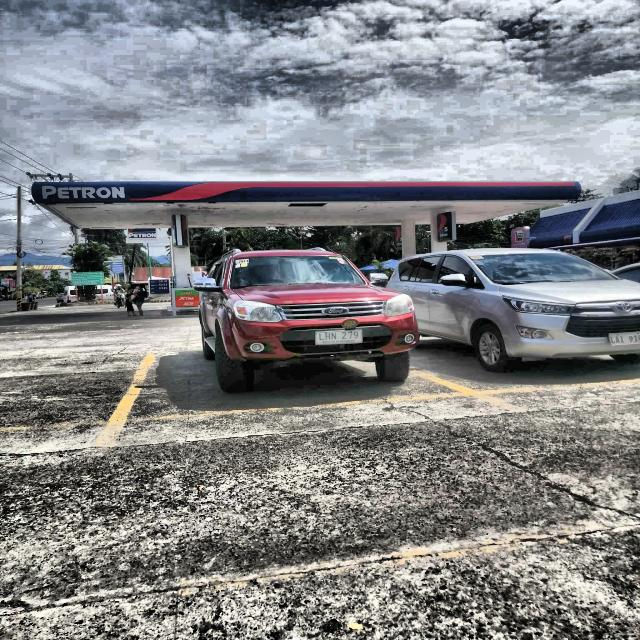license-plate: (315, 329, 364, 345)
